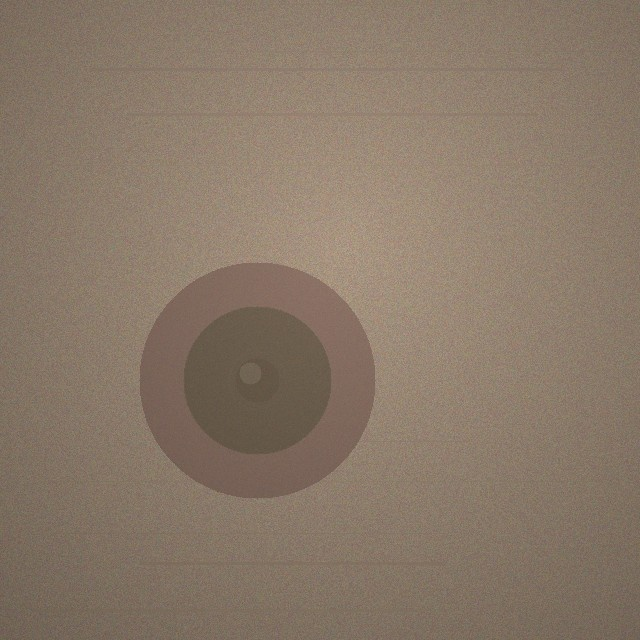good: (139, 262, 375, 498)
